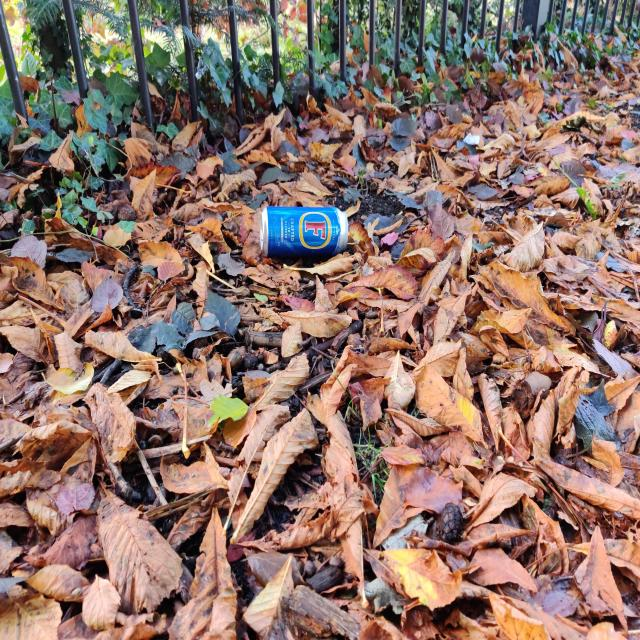litter: (261, 208, 346, 255)
